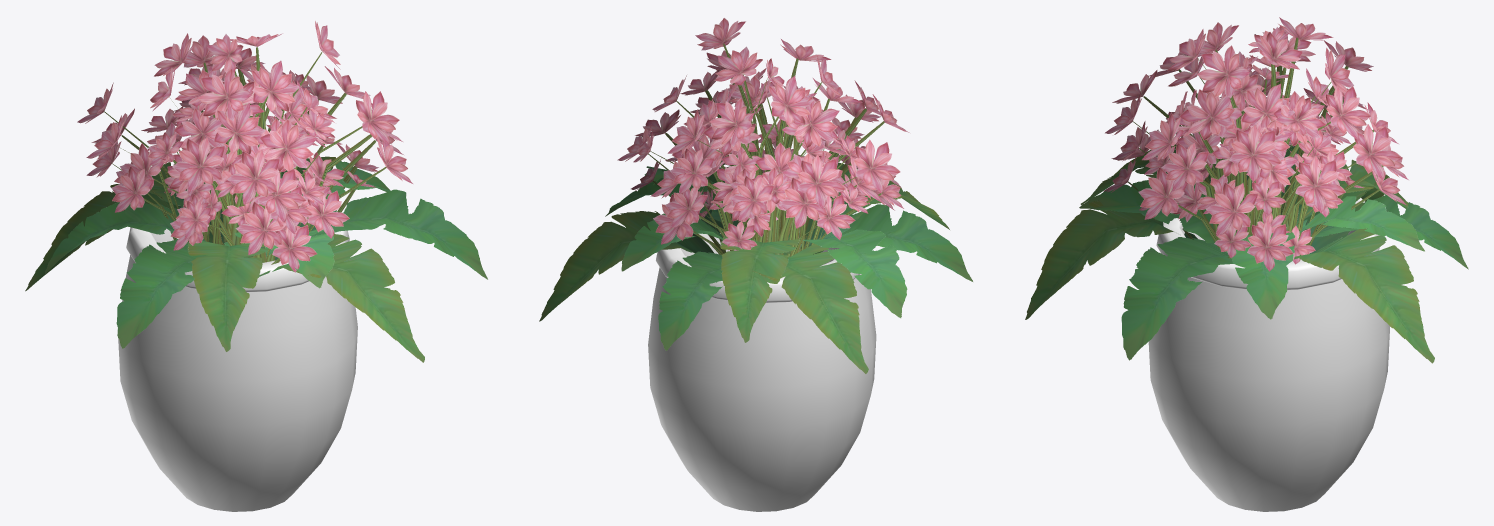
The model's file is SM_Potted_Pink_Flower_A.fbx.
The picture shows the model from 3 angles, left to right: view 1: azimuth 30°, elevation 25°; view 2: azimuth 150°, elevation 25°; view 3: azimuth 270°, elevation 25°; orthographic projection. The views are drawn at different scales.
Parts seen in each view (by area): view 1: SM_Potted_Pink_Flower_A_LOD0; view 2: SM_Potted_Pink_Flower_A_LOD0; view 3: SM_Potted_Pink_Flower_A_LOD0.
Part boxes in pixels (box(x1,y1,x2,y2)): SM_Potted_Pink_Flower_A_LOD0: box(25, 21, 487, 511); SM_Potted_Pink_Flower_A_LOD0: box(539, 18, 972, 511); SM_Potted_Pink_Flower_A_LOD0: box(1025, 17, 1468, 511).
Size of the model in its own units: 113 by 121 by 137.
2 materials, 1 textured.
